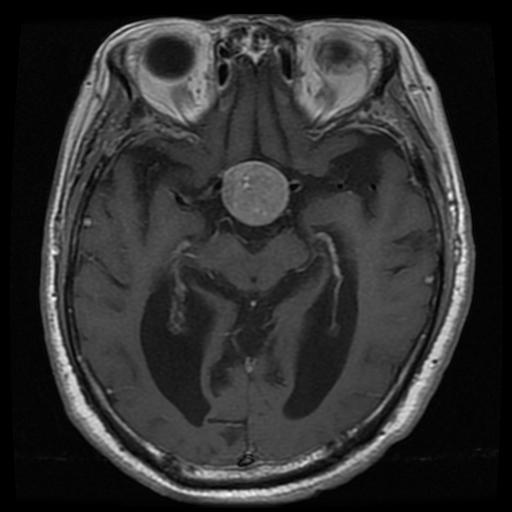Pituirity_tumour: (222, 160, 288, 226)
